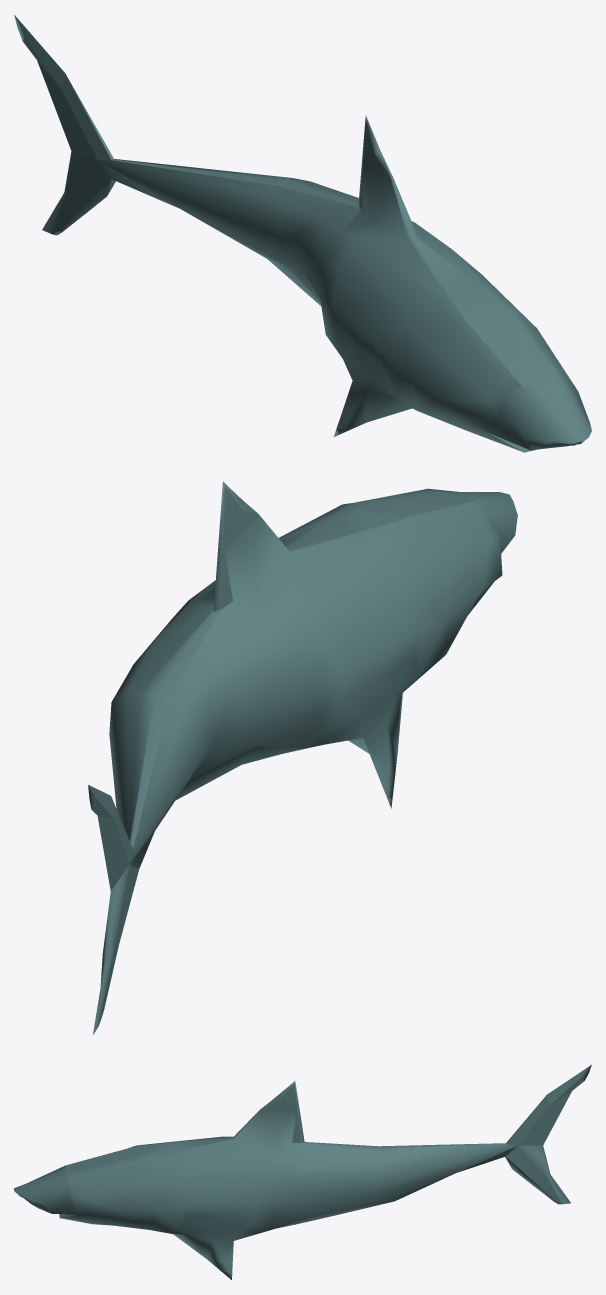
Rendered from JUST SHARK.fbx.
3 renders of one model, top to bottom at view 1: azimuth 30°, elevation 25°; view 2: azimuth 150°, elevation 25°; view 3: azimuth 270°, elevation 25°, orthographic. The views are drawn at different scales.
Parts seen in each view (by area): view 1: SHARK; view 2: SHARK; view 3: SHARK.
Part boxes in pixels (x1,y1,x2,y2): SHARK: (14, 14, 591, 452); SHARK: (88, 481, 517, 1034); SHARK: (14, 1064, 591, 1279).
Size of the model in its own units: 9.98 by 37.41 by 12.44.
